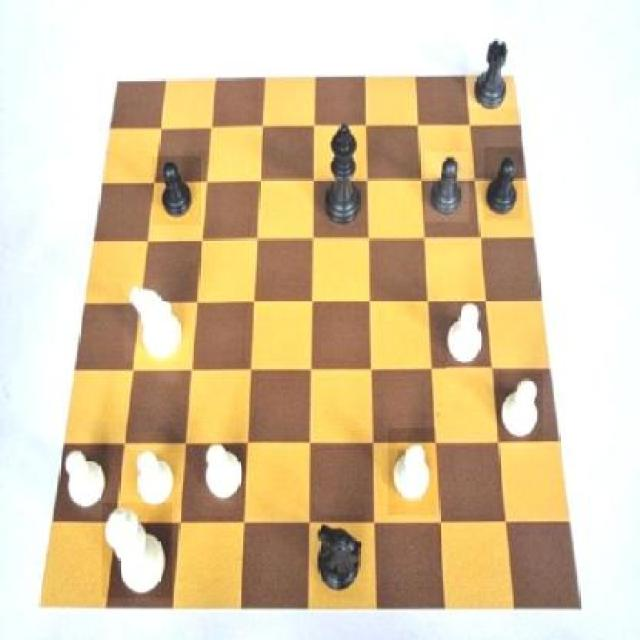black-bishop: (318, 123, 368, 228)
black-king: (316, 514, 366, 598)
black-knight: (152, 157, 200, 226), (424, 152, 468, 222), (484, 148, 524, 220)
black-queen: (469, 23, 520, 108)
white-bishop: (102, 503, 172, 599)
white-king: (124, 278, 188, 359)
white-knight: (388, 428, 437, 514), (196, 435, 246, 511), (58, 438, 108, 512), (496, 374, 542, 444), (134, 441, 178, 514), (446, 303, 491, 371)
